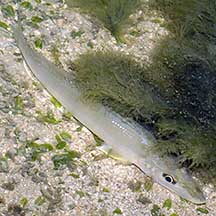kiss: (7, 16, 208, 205)
